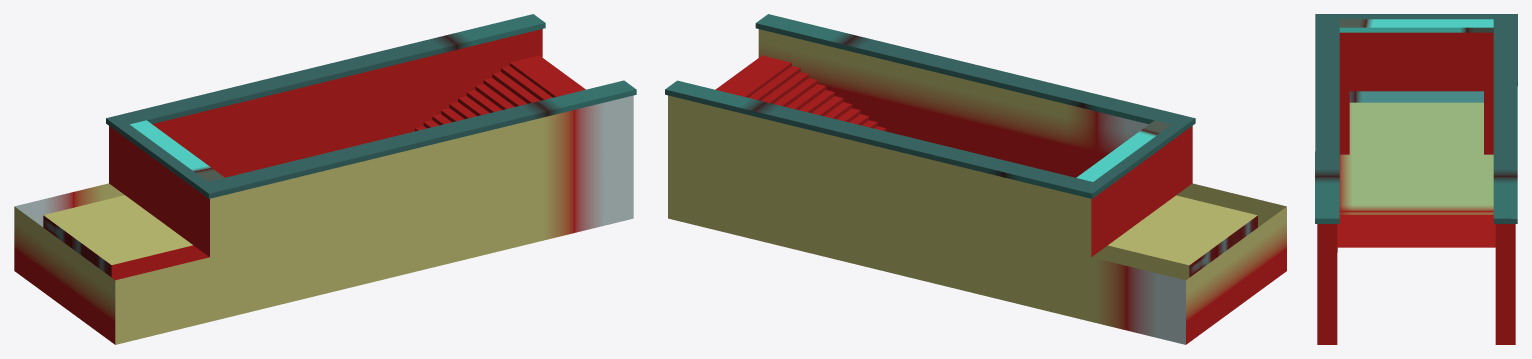
Rendered from SM_Perehod_v01.FBX.
3 views of the same model, side by side, from view 1: azimuth 30°, elevation 25°; view 2: azimuth 150°, elevation 25°; view 3: azimuth 270°, elevation 25° (orthographic).
Visible parts, largest first — view 1: SM_Perehod_v01; view 2: SM_Perehod_v01; view 3: SM_Perehod_v01.
Boxes of the visible parts, <box> form: SM_Perehod_v01: <box>14,14,636,344</box>; SM_Perehod_v01: <box>665,14,1286,344</box>; SM_Perehod_v01: <box>1315,14,1517,344</box>.
Size of the model in its own units: 19.39 by 4.61 by 6.67.
1 material, 1 textured.
